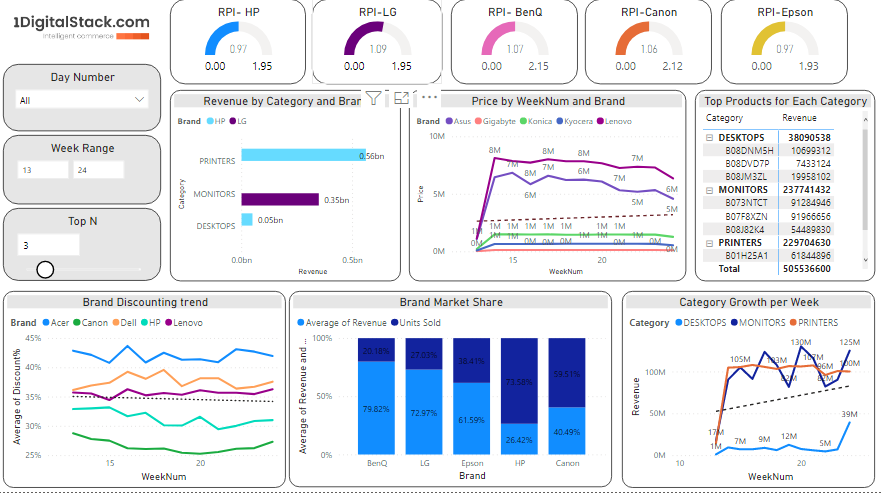

Layout of this report page (visuals, bound fields, positions):
{"tool":"powerbi","page":{"name":"Analysis_of_Computer_Accessories","canvas":[1280,720],"ordinal":0},"visuals":[{"type":"clusteredBarChart","fields":{"Y":["Sum(DATA.Revenue)"],"Category":["DATA.Category"],"Series":["DATA.Brand"]},"box":[248.2,140,333.3,275.6],"z":0},{"type":"hundredPercentStackedColumnChart","title":"Brand Market Share","fields":{"Category":["DATA.Brand"],"Y":["Avg(DATA.Revenue)","Sum(DATA.Units Sold)"]},"box":[419.9,430,466.1,282.8],"z":1000},{"type":"lineChart","title":"Brand Discounting trend","fields":{"Y":["Avg(DATA.Discount%)"],"Series":["DATA.Brand"],"Category":["DATA.WeekNum"]},"box":[7.2,430,408.3,284.2],"z":2000},{"type":"slicer","title":"Day Number","fields":{"Values":["DATA.Date.Variation.Date Hierarchy.Day"]},"box":[7.2,102.4,228,96.7],"z":3000},{"type":"slicer","title":"Week Range","fields":{"Values":["DATA.WeekNum"]},"box":[7.2,204.9,228,99.6],"z":4000},{"type":"lineChart","fields":{"Y":["Sum(DATA.Price)"],"Series":["DATA.Brand"],"Category":["DATA.WeekNum"]},"box":[593,140,399.7,275.6],"z":5000},{"type":"gauge","title":"RPI- HP","fields":{"Y":["DATA.RPI"]},"box":[248.2,8.7,196.2,122.6],"z":6000},{"type":"gauge","fields":{"Y":["DATA.RPI-LG"]},"box":[453.1,8.7,187.6,122.6],"z":7000},{"type":"gauge","fields":{"Y":["DATA.RPI-Lenovo"]},"box":[653.6,8.7,183.2,122.6],"z":8000},{"type":"lineChart","title":"Category Growth per Week","fields":{"Category":["DATA.WeekNum"],"Y":["Sum(DATA.Revenue)"],"Series":["DATA.Category"]},"box":[900.4,430,365.1,284.2],"z":9000},{"type":"pivotTable","title":"Top Products for Each Category","fields":{"Rows":["DATA.Category","ProductNames.Prod ID"],"Values":["Sum(DATA.Revenue)"]},"box":[1005.7,140,259.7,275.6],"z":10000},{"type":"slicer","title":"Top N","fields":{"Values":["TopN.TopN"]},"box":[7.2,310.2,228,105.3],"z":11000},{"type":"gauge","fields":{"Y":["DATA.RPI-Canon"]},"box":[847,8.7,183.2,122.6],"z":11001},{"type":"gauge","fields":{"Y":["DATA.RPI-Epson"]},"box":[1043.2,8.7,183.2,122.6],"z":11002},{"type":"image","box":[14.4,8.7,212.1,79.4],"z":11003}]}

Visuals, with their boxes in screenshot pixels (x1, y1, x2, y2), scaled from the page's 1280x720 canvas onto the 881x493 screenshot:
clusteredBarChart - Sum(DATA.Revenue) x DATA.Category: bbox(171, 96, 400, 285)
"Brand Market Share" hundredPercentStackedColumnChart: bbox(289, 294, 610, 488)
"Brand Discounting trend" lineChart: bbox(5, 294, 286, 489)
"Day Number" slicer: bbox(5, 70, 162, 136)
"Week Range" slicer: bbox(5, 140, 162, 208)
lineChart - Sum(DATA.Price) x DATA.Brand: bbox(408, 96, 683, 285)
"RPI- HP" gauge: bbox(171, 6, 306, 90)
gauge - DATA.RPI-LG: bbox(312, 6, 441, 90)
gauge - DATA.RPI-Lenovo: bbox(450, 6, 576, 90)
"Category Growth per Week" lineChart: bbox(620, 294, 871, 489)
"Top Products for Each Category" pivotTable: bbox(692, 96, 871, 285)
"Top N" slicer: bbox(5, 212, 162, 285)
gauge - DATA.RPI-Canon: bbox(583, 6, 709, 90)
gauge - DATA.RPI-Epson: bbox(718, 6, 844, 90)
image: bbox(10, 6, 156, 60)
